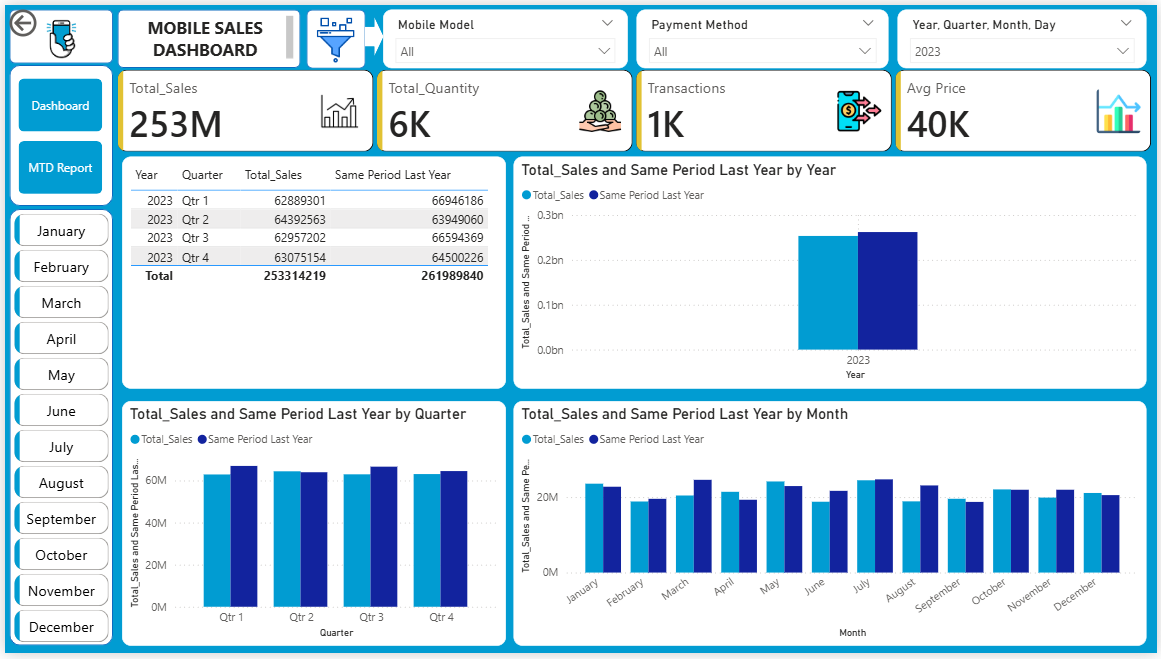

This screenshot's page, from the dashboard's own definition file:
{"tool":"powerbi","page":{"name":"Same Period Last Year","canvas":[1280,720],"ordinal":2},"visuals":[{"type":"shape","box":[5,5,115,60],"z":0},{"type":"shape","box":[5,66.7,115,156.7],"z":1000},{"type":"shape","box":[5,226.7,115,485],"z":2000},{"type":"advancedSlicerVisual","fields":{"Values":["Custom_Calender.Date.Variation.Date Hierarchy.Month"]},"box":[5,226.7,115,493.3],"z":3000},{"type":"cardVisual","fields":{"Data":["Mobile_Sales_Data.Total_Sales","Mobile_Sales_Data.Total_Quantity","Mobile_Sales_Data.Transactions","Mobile_Sales_Data.Avg Price"]},"box":[120.4,67.2,1159.7,101.6],"z":4000},{"type":"slicer","fields":{"Values":["Mobile_Sales_Data.Mobile Model"]},"box":[420.4,4.7,272,65.6],"z":5000},{"type":"slicer","fields":{"Values":["Mobile_Sales_Data.Payment Method"]},"box":[701.7,5,280,65],"z":6000},{"type":"slicer","fields":{"Values":["Custom_Calender.Date.Variation.Date Hierarchy.Year","Custom_Calender.Date.Variation.Date Hierarchy.Quarter","Custom_Calender.Date.Variation.Date Hierarchy.Month","Custom_Calender.Date.Variation.Date Hierarchy.Day"]},"box":[991.7,5,276.7,65],"z":7000},{"type":"shape","box":[334.5,4.7,65.6,65.6],"z":8000},{"type":"image","box":[342.3,9.4,51.6,57.8],"z":9000},{"type":"shape","box":[400,13.6,20.7,43.6],"z":10000},{"type":"shape","box":[125,5,203.3,65],"z":11000},{"type":"textbox","box":[128.3,6.7,196.7,58.3],"z":12000},{"type":"tableEx","fields":{"Values":["Custom_Calender.Date.Variation.Date Hierarchy.Year","Custom_Calender.Date.Variation.Date Hierarchy.Quarter","Mobile_Sales_Data.Total_Sales","Mobile_Sales_Data.Same Period Last Year"]},"box":[129.7,168.8,426.7,257.9],"z":13000},{"type":"actionButton","box":[0,0,100,40],"z":14000},{"type":"clusteredColumnChart","fields":{"Category":["Custom_Calender.Date.Variation.Date Hierarchy.Year","Custom_Calender.Date.Variation.Date Hierarchy.Quarter"],"Y":["Mobile_Sales_Data.Total_Sales","Mobile_Sales_Data.Same Period Last Year"]},"box":[564.2,168.8,703.3,257.9],"z":15000},{"type":"clusteredColumnChart","fields":{"Category":["Custom_Calender.Date.Variation.Date Hierarchy.Year","Custom_Calender.Date.Variation.Date Hierarchy.Quarter"],"Y":["Mobile_Sales_Data.Total_Sales","Mobile_Sales_Data.Same Period Last Year"]},"box":[129.7,439.2,426.7,272],"z":16000},{"type":"clusteredColumnChart","fields":{"Y":["Mobile_Sales_Data.Total_Sales","Mobile_Sales_Data.Same Period Last Year"],"Category":["Custom_Calender.Date.Variation.Date Hierarchy.Year","Custom_Calender.Date.Variation.Date Hierarchy.Quarter","Custom_Calender.Date.Variation.Date Hierarchy.Month","Custom_Calender.Date.Variation.Date Hierarchy.Day"]},"box":[564.2,439.2,703.3,272],"z":17000},{"type":"pageNavigator","box":[15.6,81.3,93.8,129.7],"z":18000},{"type":"image","box":[25,10,75,55],"z":19000}]}

Visuals, with their boxes in screenshot pixels (x1, y1, x2, y2), scaled from the page's 1280x720 canvas onto the 1161x659 screenshot:
shape: bbox=(5, 5, 109, 59)
shape: bbox=(5, 61, 109, 204)
shape: bbox=(5, 207, 109, 651)
advancedSlicerVisual - Custom_Calender.Date.Variation.Date Hierarchy.Month: bbox=(5, 207, 109, 658)
cardVisual - Mobile_Sales_Data.Total_Sales x Mobile_Sales_Data.Total_Quantity: bbox=(109, 62, 1160, 154)
slicer - Mobile_Sales_Data.Mobile Model: bbox=(381, 4, 628, 64)
slicer - Mobile_Sales_Data.Payment Method: bbox=(636, 5, 890, 64)
slicer - Custom_Calender.Date.Variation.Date Hierarchy.Year x Custom_Calender.Date.Variation.Date Hierarchy.Quarter: bbox=(900, 5, 1150, 64)
shape: bbox=(303, 4, 363, 64)
image: bbox=(310, 9, 357, 62)
shape: bbox=(363, 12, 382, 52)
shape: bbox=(113, 5, 298, 64)
textbox: bbox=(116, 6, 295, 59)
tableEx - Custom_Calender.Date.Variation.Date Hierarchy.Year x Custom_Calender.Date.Variation.Date Hierarchy.Quarter: bbox=(118, 154, 505, 391)
actionButton: bbox=(0, 0, 91, 37)
clusteredColumnChart - Custom_Calender.Date.Variation.Date Hierarchy.Year x Custom_Calender.Date.Variation.Date Hierarchy.Quarter: bbox=(512, 154, 1150, 391)
clusteredColumnChart - Custom_Calender.Date.Variation.Date Hierarchy.Year x Custom_Calender.Date.Variation.Date Hierarchy.Quarter: bbox=(118, 402, 505, 651)
clusteredColumnChart - Mobile_Sales_Data.Total_Sales x Mobile_Sales_Data.Same Period Last Year: bbox=(512, 402, 1150, 651)
pageNavigator: bbox=(14, 74, 99, 193)
image: bbox=(23, 9, 91, 59)
